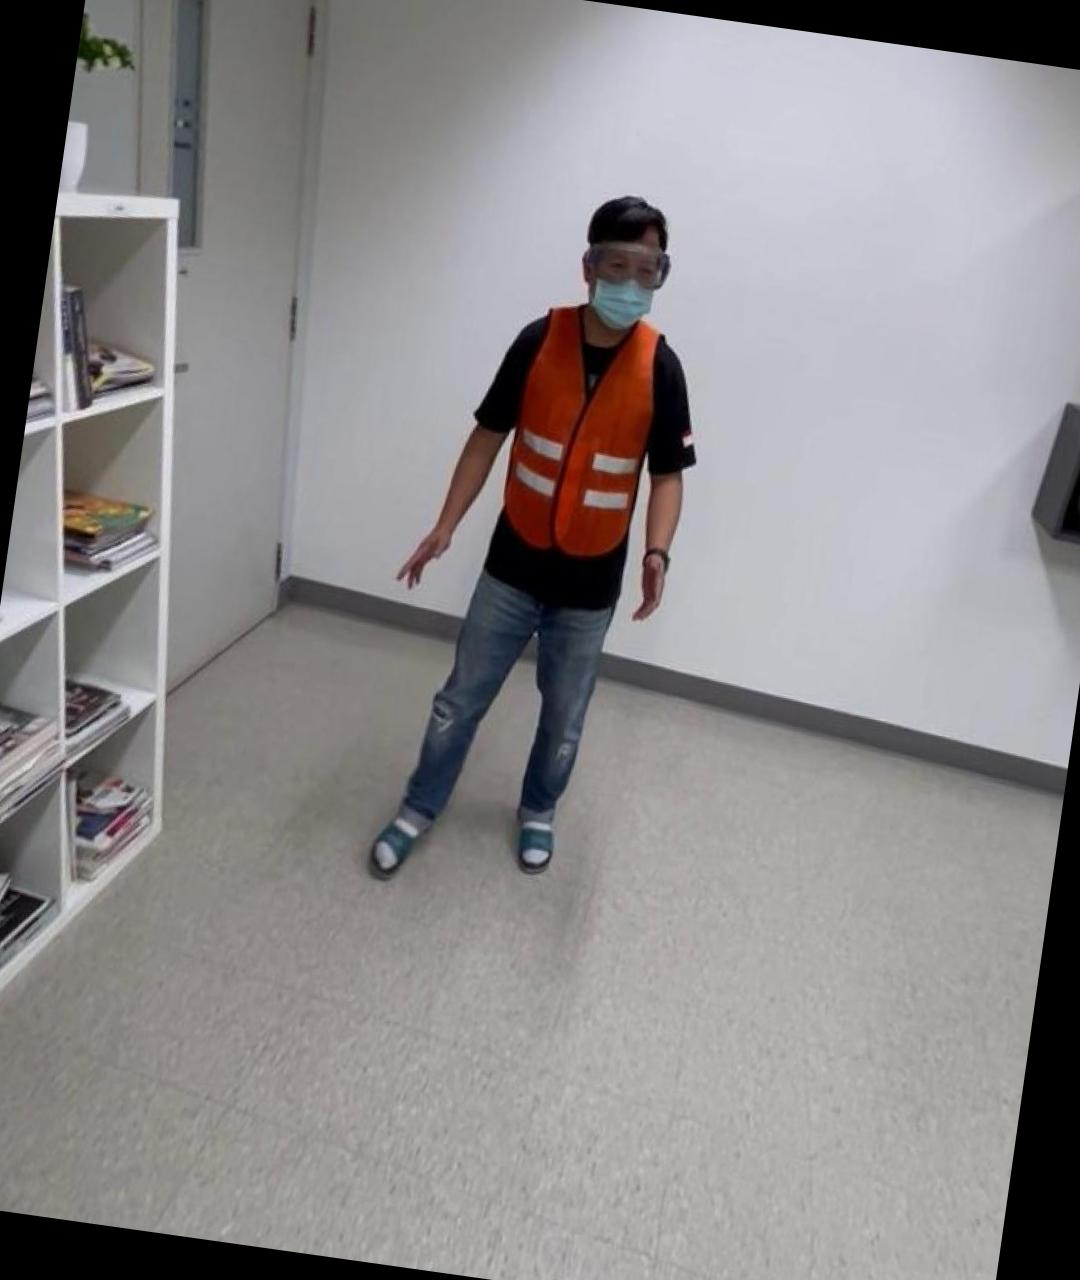No-gloves: (390, 511, 453, 597), (628, 541, 673, 628)
